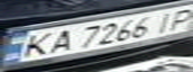2: (100, 20, 124, 47)
6: (130, 14, 157, 39), (115, 17, 139, 43)
7: (75, 21, 103, 51)
A: (42, 27, 78, 55)
I: (148, 9, 181, 34)
K: (12, 29, 57, 60)
P: (163, 6, 193, 33)
